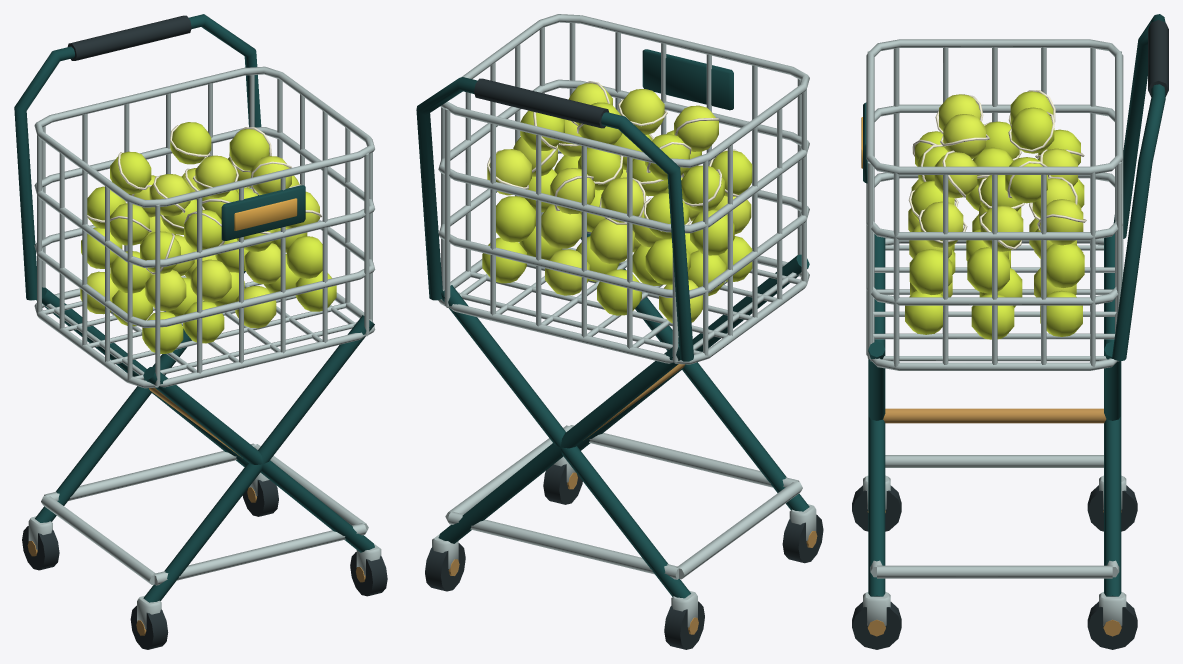
The model's file is ball_basket.glb.
3 views of the same model, side by side, from view 1: azimuth 30°, elevation 25°; view 2: azimuth 150°, elevation 25°; view 3: azimuth 270°, elevation 25° (orthographic). The views are drawn at different scales.
Visible parts, largest first — view 1: ball_basket_Silver, ball_basket_Deep_Jade, ball_basket_Ball_Felt, ball_basket_Ball_Sun, ball_basket_Rubber, ball_basket_Ball_Seam, ball_basket_Gold_Paint, ball_basket_Brass; view 2: ball_basket_Silver, ball_basket_Deep_Jade, ball_basket_Ball_Felt, ball_basket_Ball_Sun, ball_basket_Rubber, ball_basket_Ball_Seam, ball_basket_Brass; view 3: ball_basket_Silver, ball_basket_Ball_Felt, ball_basket_Deep_Jade, ball_basket_Ball_Sun, ball_basket_Rubber, ball_basket_Brass, ball_basket_Ball_Seam.
Boxes of the visible parts, left/top/right/bottom form: ball_basket_Silver: left=28, top=66, right=381, bottom=629; ball_basket_Deep_Jade: left=14, top=14, right=374, bottom=602; ball_basket_Ball_Felt: left=81, top=122, right=336, bottom=353; ball_basket_Ball_Sun: left=80, top=155, right=319, bottom=328; ball_basket_Rubber: left=22, top=15, right=387, bottom=649; ball_basket_Ball_Seam: left=87, top=125, right=321, bottom=274; ball_basket_Gold_Paint: left=234, top=198, right=297, bottom=230; ball_basket_Brass: left=27, top=387, right=365, bottom=635; ball_basket_Silver: left=432, top=14, right=816, bottom=627; ball_basket_Deep_Jade: left=416, top=49, right=809, bottom=598; ball_basket_Ball_Felt: left=482, top=102, right=752, bottom=315; ball_basket_Ball_Sun: left=487, top=83, right=751, bottom=323; ball_basket_Rubber: left=425, top=78, right=823, bottom=649; ball_basket_Ball_Seam: left=487, top=81, right=738, bottom=231; ball_basket_Brass: left=448, top=364, right=817, bottom=634; ball_basket_Silver: left=863, top=39, right=1126, bottom=626; ball_basket_Ball_Felt: left=905, top=91, right=1084, bottom=339; ball_basket_Deep_Jade: left=863, top=14, right=1165, bottom=596; ball_basket_Ball_Sun: left=908, top=94, right=1083, bottom=297; ball_basket_Rubber: left=852, top=20, right=1168, bottom=649; ball_basket_Brass: left=867, top=408, right=1121, bottom=636; ball_basket_Ball_Seam: left=908, top=90, right=1086, bottom=249.
Bounding box in the file's own units: 0.4728 × 0.906 × 0.484.
